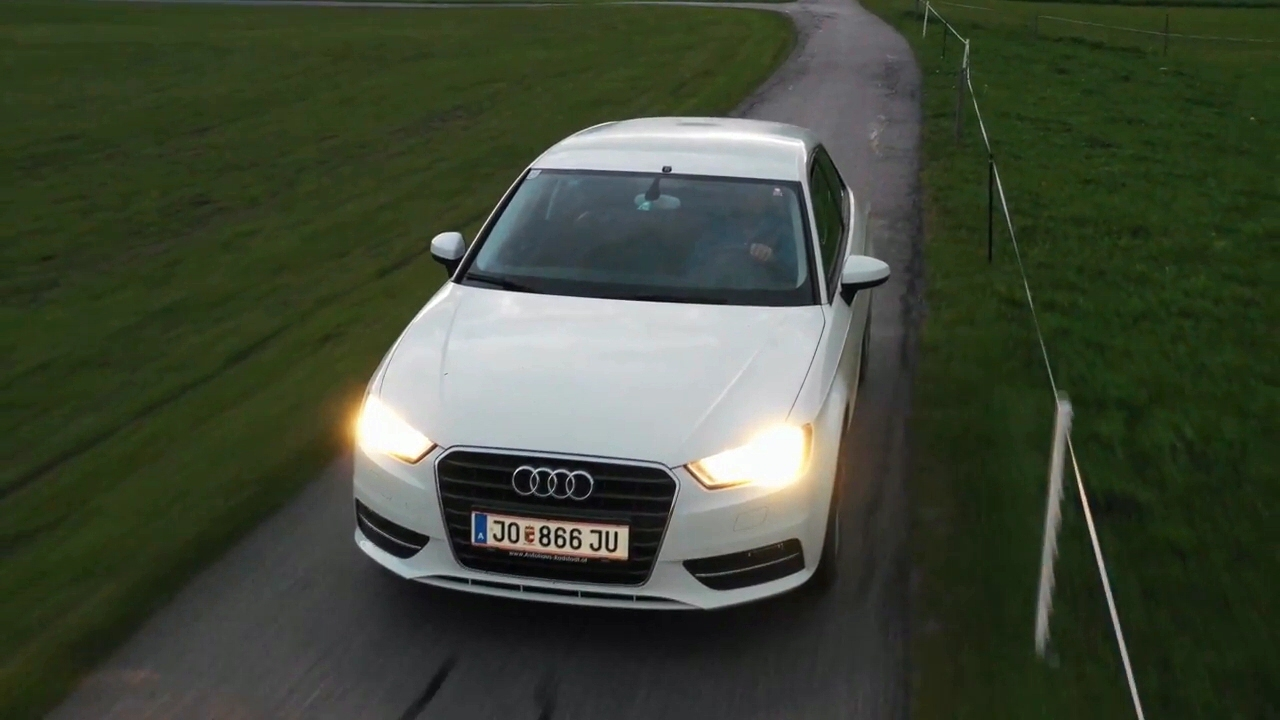araba: (344, 113, 892, 617)
